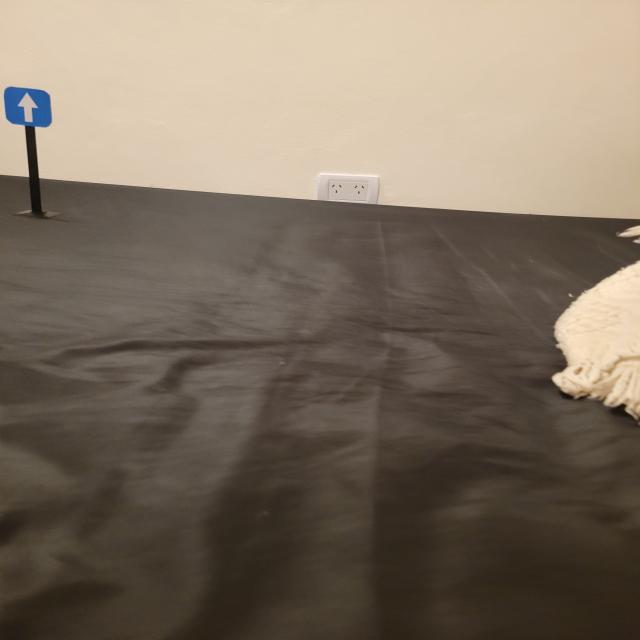one_way: (3, 86, 52, 128)
